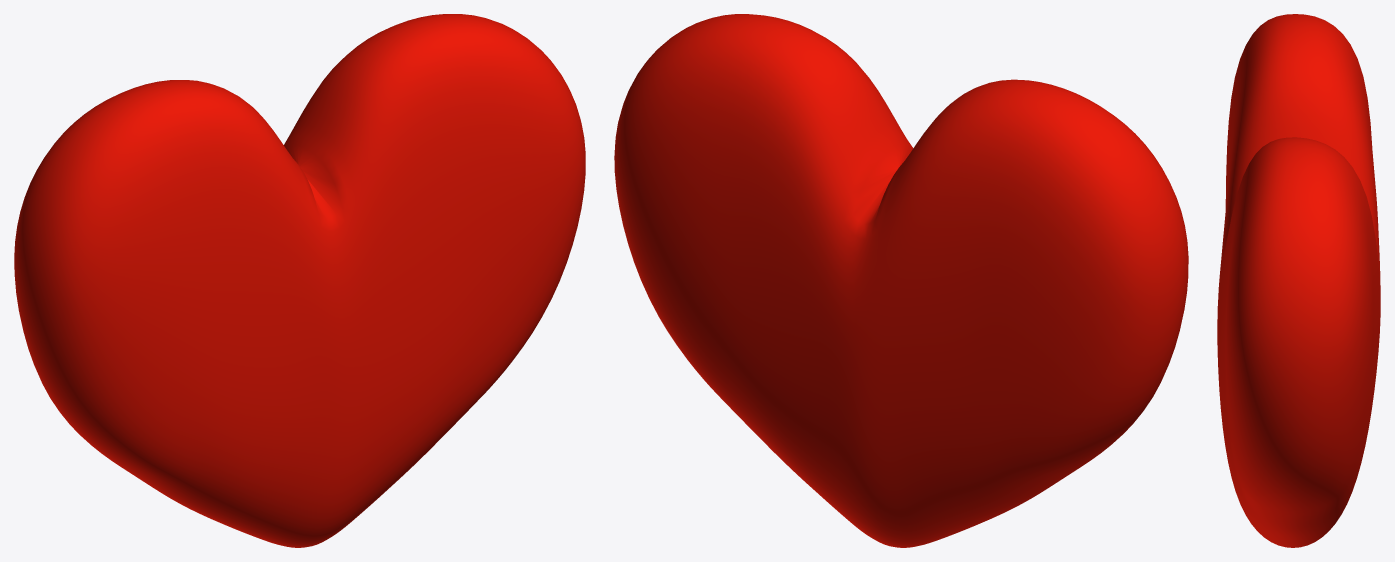
File: heart.glb
The picture shows the model from 3 angles, left to right: view 1: azimuth 30°, elevation 25°; view 2: azimuth 150°, elevation 25°; view 3: azimuth 270°, elevation 25°; orthographic projection. The views are drawn at different scales.
Parts seen in each view (by area): view 1: Cube; view 2: Cube; view 3: Cube.
Part boxes in pixels (x1,y1,x2,y2): Cube: [14, 14, 585, 547]; Cube: [614, 14, 1188, 547]; Cube: [1217, 14, 1380, 547].
Size of the model in its own units: 3.37 by 2.85 by 0.9297.
